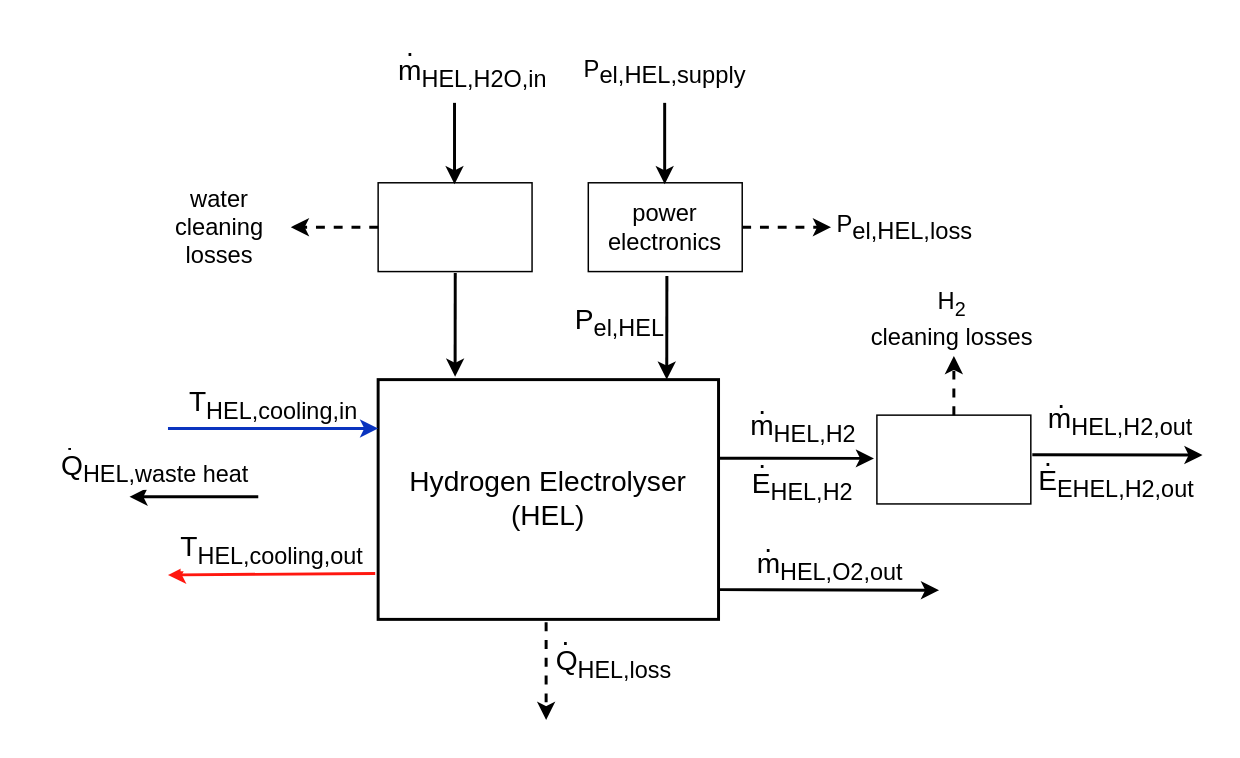
Image size: 1240x758. Some labels were removed from this diagram. Each missing label, with the centre of its shape:
H 2 processing: (x=953, y=459)
water processing: (x=454, y=226)
